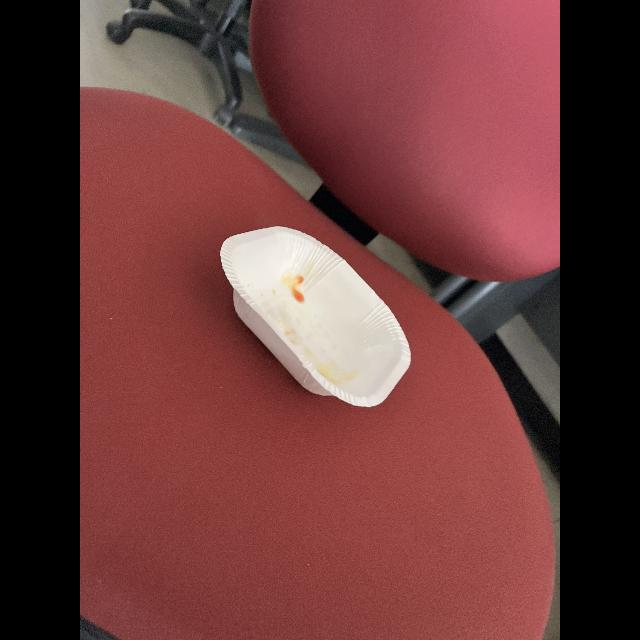cardboard_bowl: (200, 216, 426, 418)
